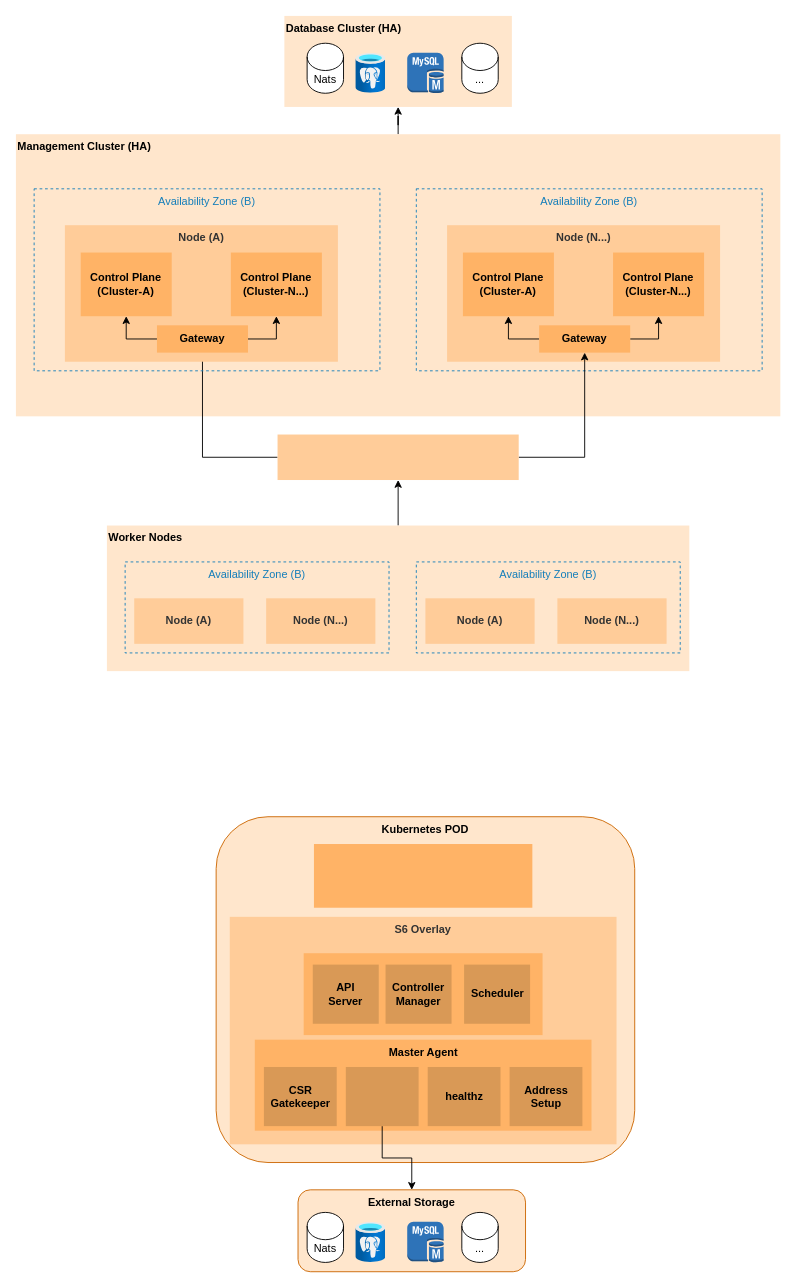
Image size: 795x1288. Some labels were removed from this diagram. The shapes that lost their labels are listed below. From the top down, each one's centre as x and y in pixels, then its label:
At [397,457]: "Network Load Balancer".
At [422,875]: "Tunnel Proxy Server".
At [381,1096]: "Kine".
